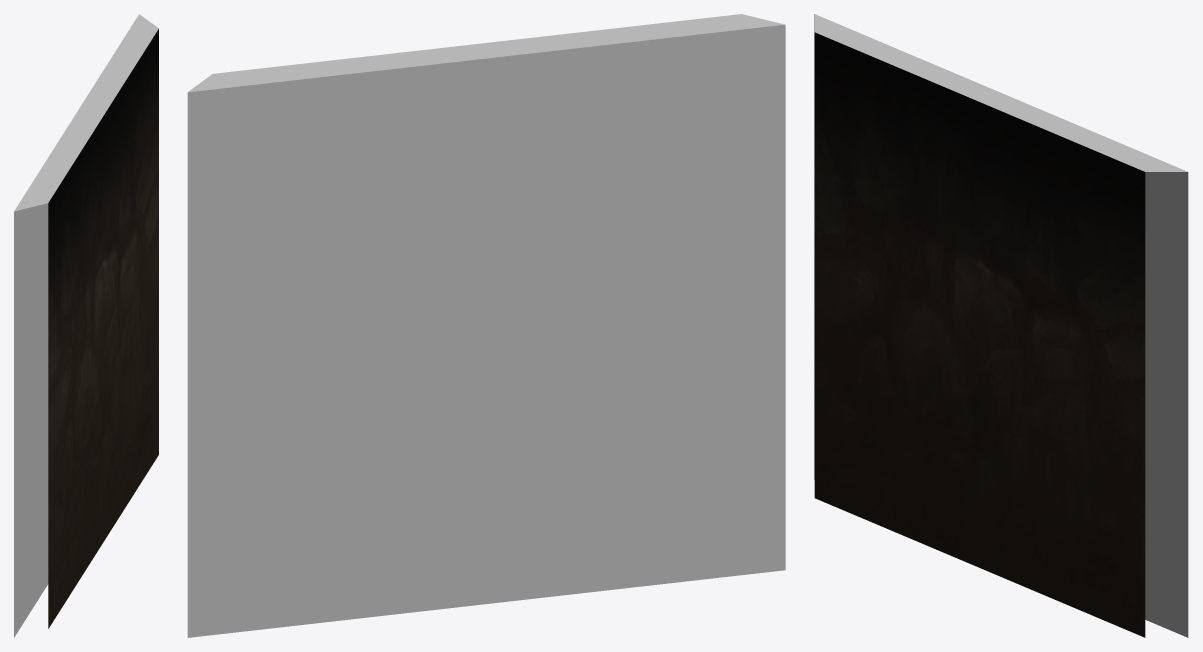
The model's file is fortress_fade_diagonal_01.fbx.
3 views of the same model, side by side, from view 1: azimuth 30°, elevation 25°; view 2: azimuth 150°, elevation 25°; view 3: azimuth 270°, elevation 25° (orthographic). The views are drawn at different scales.
Parts seen in each view (by area): view 1: fortress_fade_diagonal_01-0; view 2: fortress_fade_diagonal_01-0; view 3: fortress_fade_diagonal_01-0.
Part boxes in pixels (<box>): fortress_fade_diagonal_01-0: <box>14,14,158,637</box>; fortress_fade_diagonal_01-0: <box>187,14,785,637</box>; fortress_fade_diagonal_01-0: <box>814,14,1188,637</box>.
Size of the model in its own units: 4 by 5.5 by 4.
